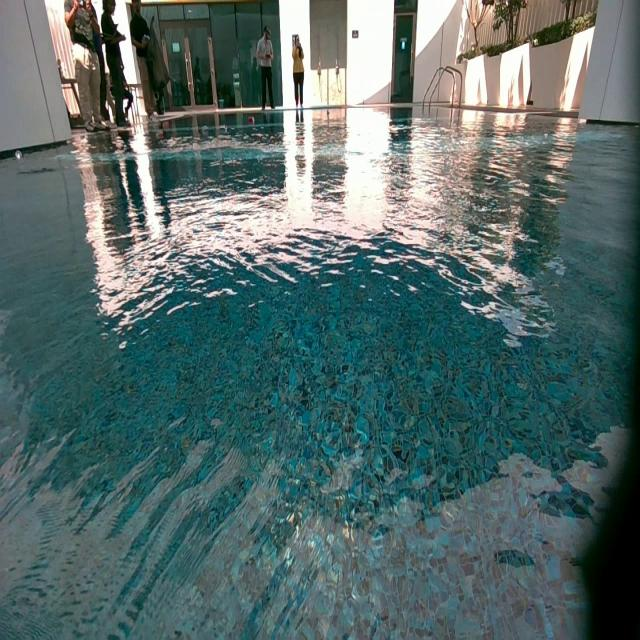Cans: (15, 150, 22, 160), (247, 116, 255, 124), (156, 130, 163, 139), (219, 125, 228, 132), (201, 125, 207, 133), (163, 122, 169, 128)
